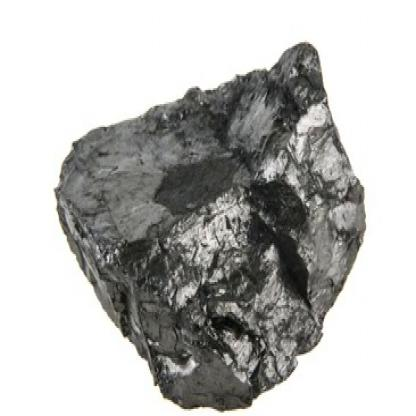Sedimentary_coal: (41, 30, 382, 414)
